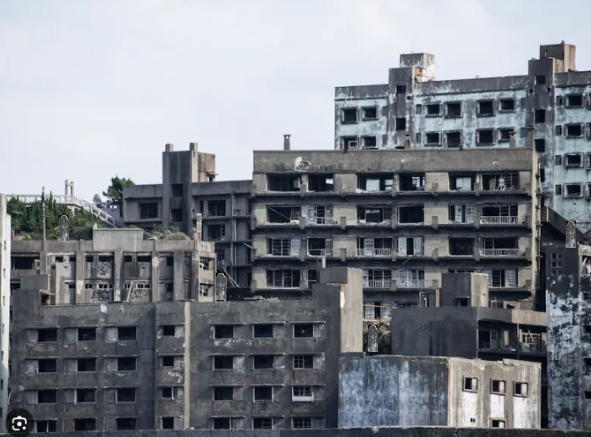HVT1: (215, 273, 227, 301), (565, 221, 576, 248), (367, 325, 378, 352), (58, 215, 68, 239)
